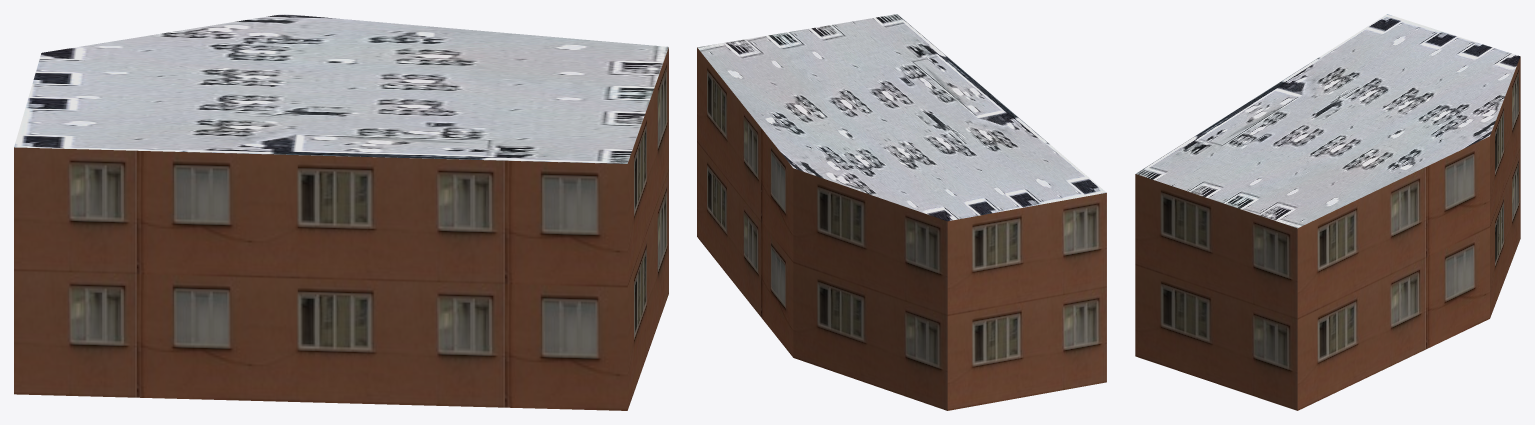
The model's file is ResTex__5061.fbx.
3 views of the same model, side by side, from view 1: azimuth 30°, elevation 25°; view 2: azimuth 150°, elevation 25°; view 3: azimuth 270°, elevation 25° (orthographic). The views are drawn at different scales.
Parts seen in each view (by area): view 1: CityEngineMaterial_20_m, CityEngineMaterial_4_m; view 2: CityEngineMaterial_20_m, CityEngineMaterial_4_m; view 3: CityEngineMaterial_20_m, CityEngineMaterial_4_m.
Boxes of the visible parts, bbox=[...] form: CityEngineMaterial_20_m: bbox=[14, 47, 668, 410]; CityEngineMaterial_4_m: bbox=[14, 14, 668, 163]; CityEngineMaterial_20_m: bbox=[697, 47, 1106, 410]; CityEngineMaterial_4_m: bbox=[697, 14, 1106, 221]; CityEngineMaterial_20_m: bbox=[1135, 56, 1520, 410]; CityEngineMaterial_4_m: bbox=[1136, 14, 1520, 228].
Bounding box in the file's own units: 15.11 × 6 × 11.47.
Materials: 2 (2 with a texture image).
